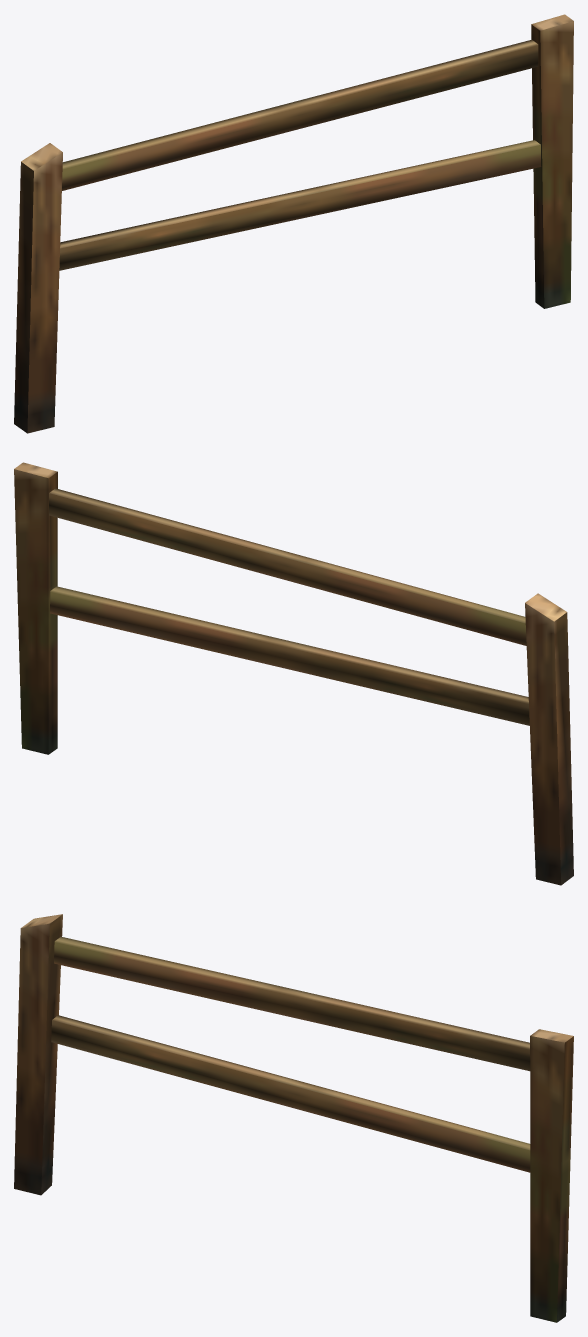
File: general_obj_fence01.fbx
The picture shows the model from 3 angles, top to bottom: view 1: azimuth 30°, elevation 25°; view 2: azimuth 150°, elevation 25°; view 3: azimuth 330°, elevation 25°; orthographic projection.
Parts seen in each view (by area): view 1: Sphere01; view 2: Sphere01; view 3: Sphere01.
Boxes of the visible parts, x1,y1,x2,y2 form: Sphere01: (14,14,573,433); Sphere01: (14,462,573,885); Sphere01: (14,914,573,1322).
Bounding box in the file's own units: 4.44 × 2.16 × 0.2065.
